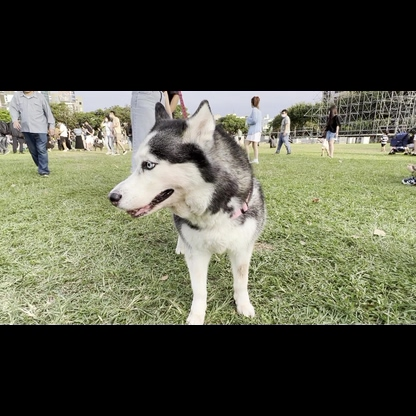husky: (104, 100, 277, 322)
